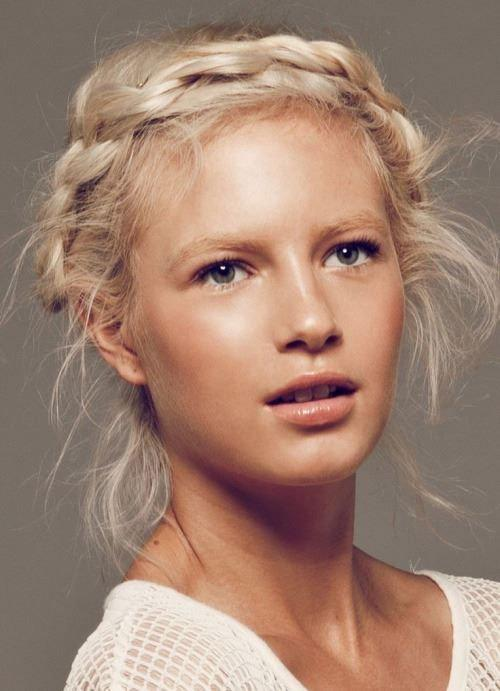Sober: (145, 127, 386, 469)
